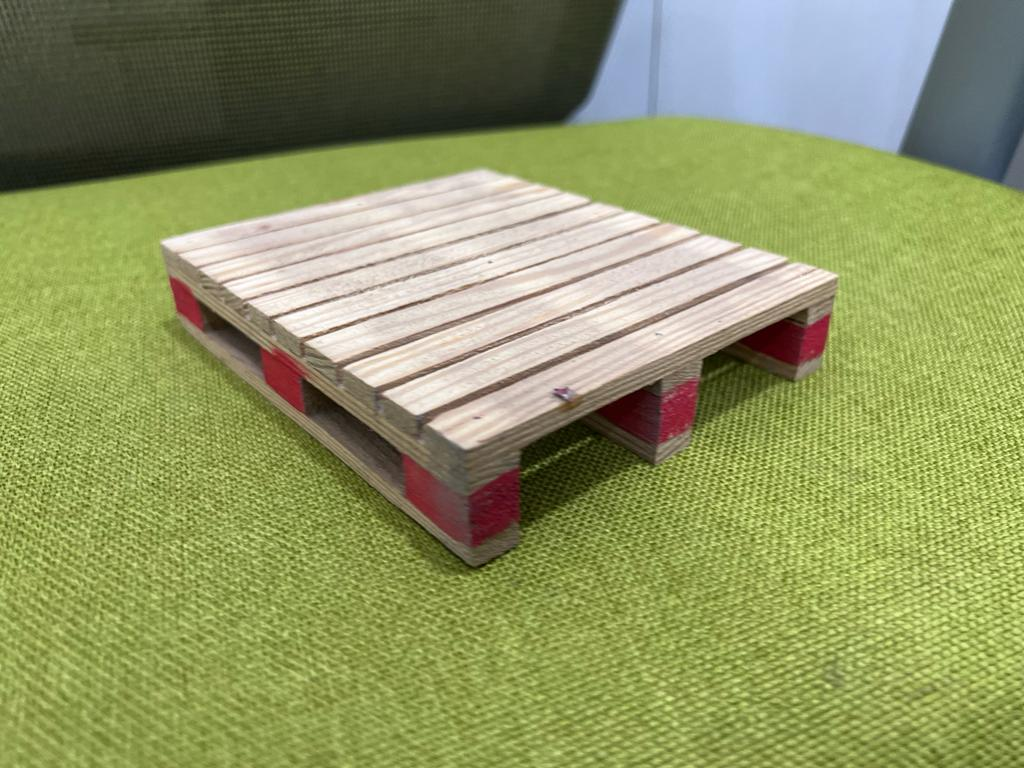pallet: (113, 158, 845, 596)
